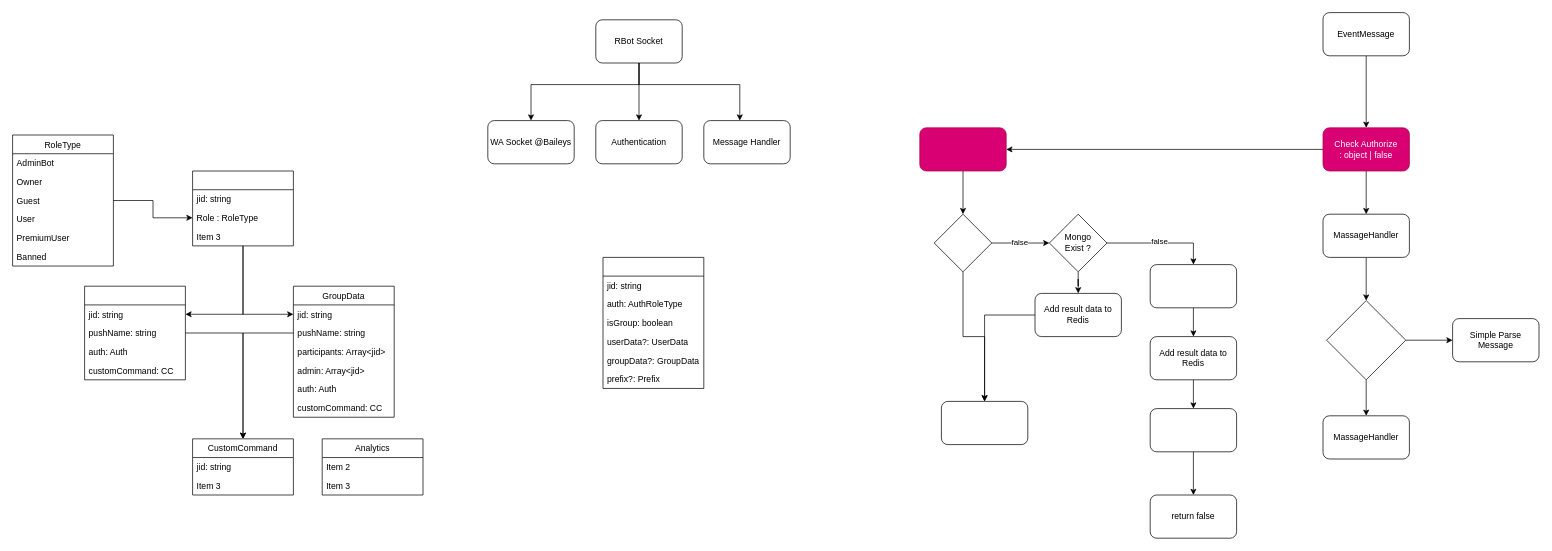
The diagram is 1552 pixels wide and 551 high, and some of its shapes have lost their labels. The box of each missing label's shape, as (x1, y1, x2, y2) in pixels:
Auth: (192, 170, 293, 246)
Callback method for request data user registration: (1149, 408, 1237, 452)
Check Authorize: (919, 127, 1006, 171)
isRegistered?: (1326, 300, 1406, 380)
Redis Exist ?: (933, 213, 992, 272)
Register as NonAuthorize User: (1149, 264, 1237, 308)
return object data: (941, 401, 1028, 445)
RMessage: (602, 257, 704, 388)
UserData: (84, 285, 185, 380)
